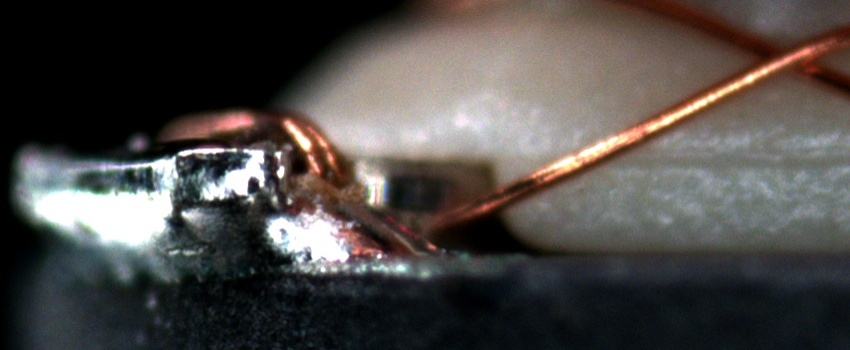CL: (737, 27, 838, 86)
DL: (592, 124, 850, 194)
TE: (157, 102, 358, 183)
